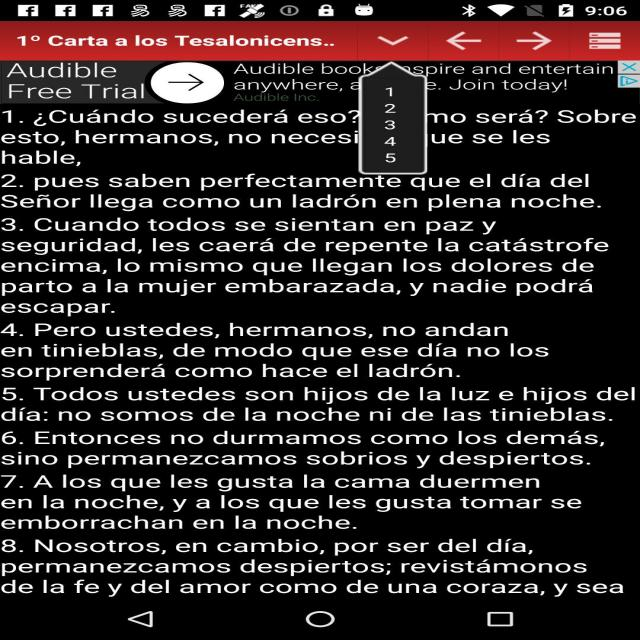button: (100, 601, 565, 635), (377, 22, 640, 65)
icon: (2, 0, 638, 31)
text: (6, 65, 636, 600)
